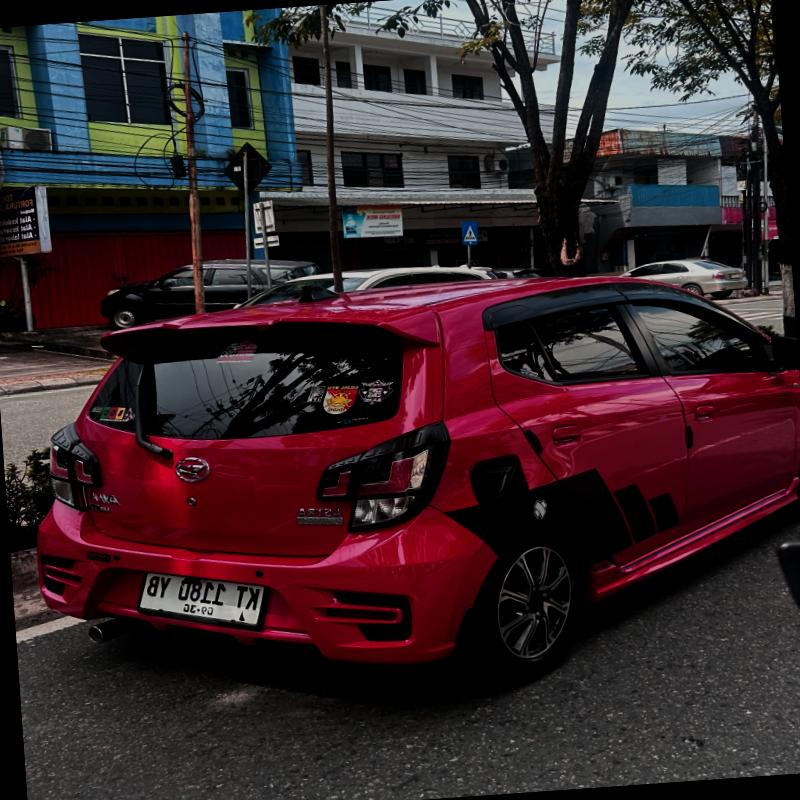license plate on a car: (138, 572, 265, 625)
